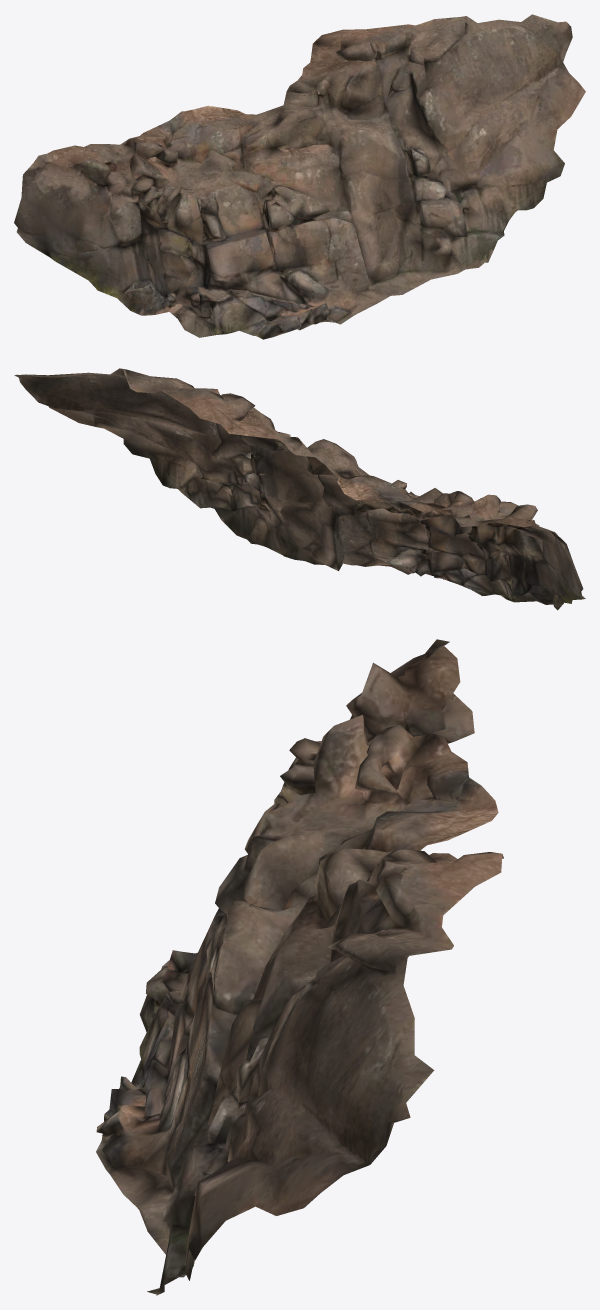
File: namaqualand_cliff_02.glb
3 views of the same model, one above another, from view 1: azimuth 30°, elevation 25°; view 2: azimuth 150°, elevation 25°; view 3: azimuth 270°, elevation 25° (orthographic). The views are drawn at different scales.
Visible parts, largest first — view 1: drone_rock_02_LOD0; view 2: drone_rock_02_LOD0; view 3: drone_rock_02_LOD0.
Part boxes in pixels (x1=…): drone_rock_02_LOD0: x1=14, y1=14, x2=585, y2=339; drone_rock_02_LOD0: x1=14, y1=368, x2=585, y2=610; drone_rock_02_LOD0: x1=96, y1=639, x2=503, y2=1295.
Bounding box in the file's own units: 20.19 × 7.16 × 6.48.
1 material, 1 textured.
